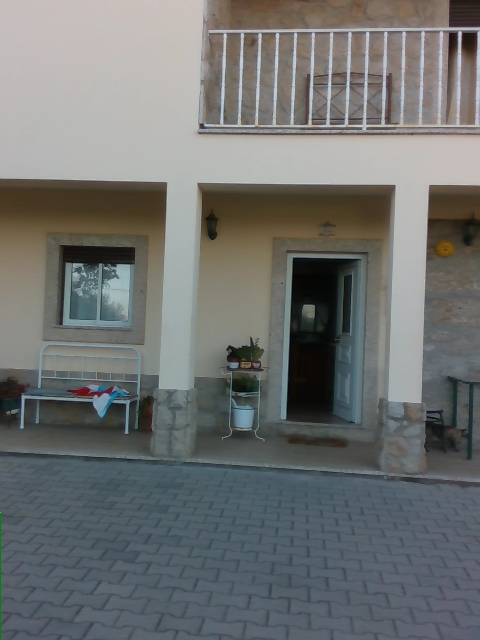open: (279, 251, 368, 427)
